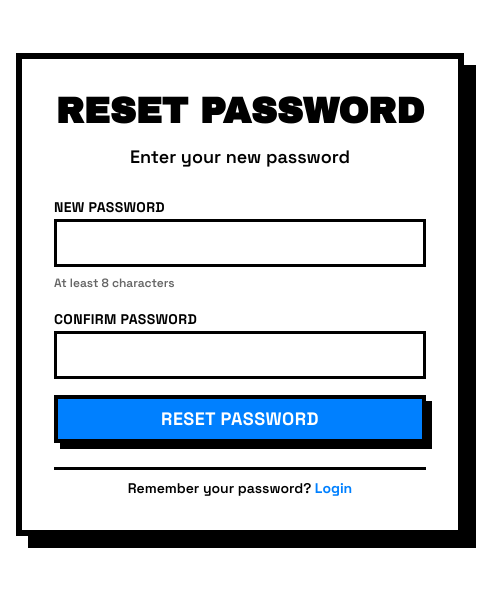
Test: ResetPassword › shows password mismatch error
The image size is (493, 602).
In the password field labelled "New Password": (240, 242) top-left (54, 218), bottom-right (426, 266), type "password123"
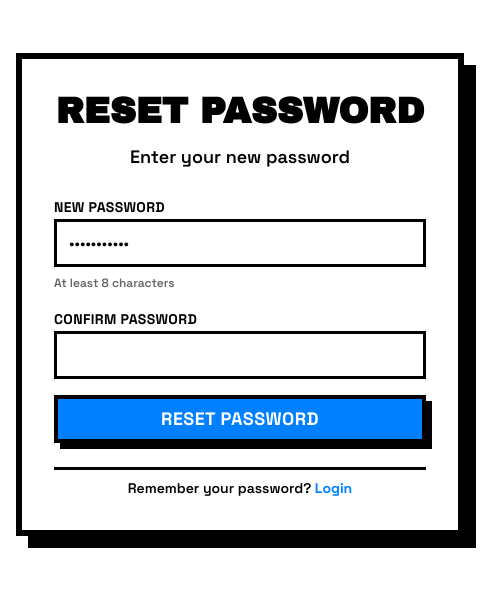
In the password field labelled "Confirm Password": (240, 354) top-left (54, 330), bottom-right (426, 378), type "different"
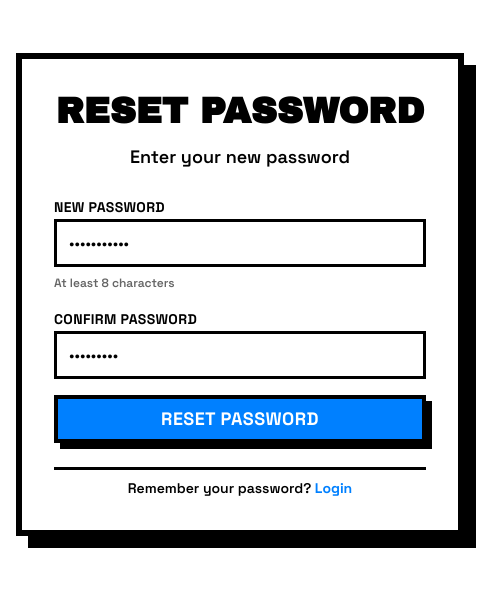
Click the button "Reset Password": (240, 418) top-left (54, 394), bottom-right (426, 442)
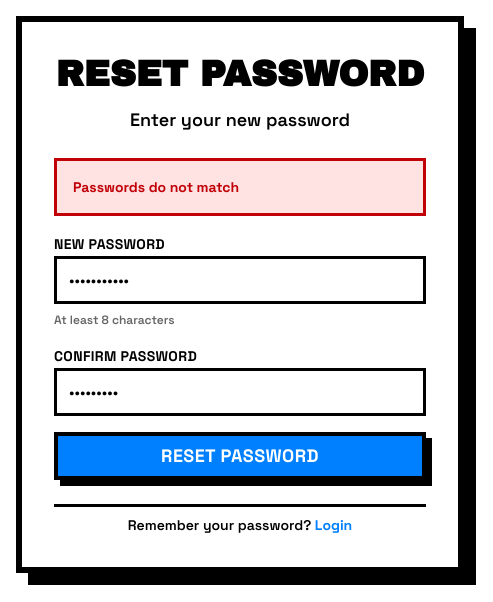
Expected: the text "Passwords do not match" is shown, top-left (54, 158), bottom-right (426, 216)
